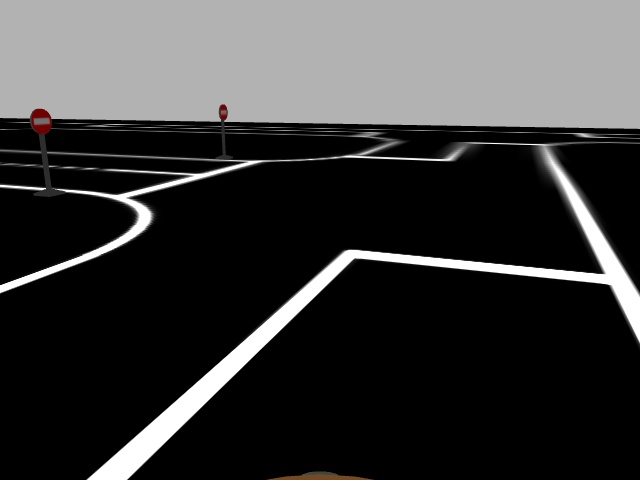prohibited: (29, 106, 53, 137), (218, 101, 228, 121)
